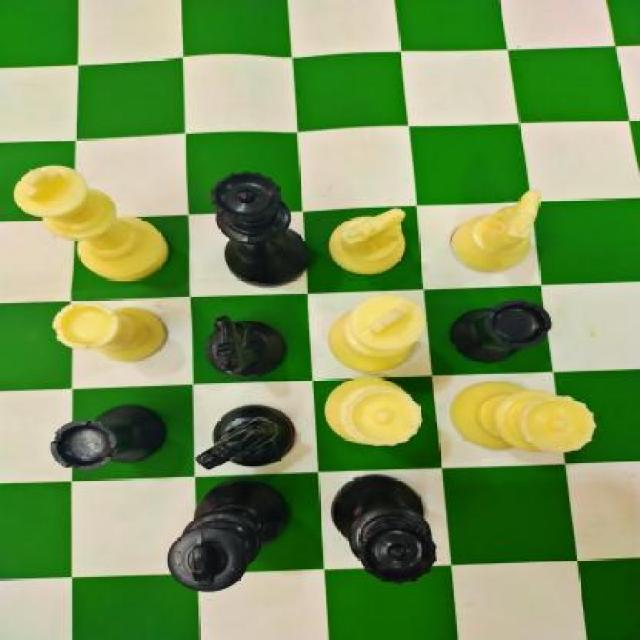black-king: (167, 477, 293, 592)
black-knight: (192, 404, 302, 470), (207, 313, 288, 379)
black-queen: (330, 473, 438, 585), (212, 170, 313, 285)
black-rook: (48, 402, 169, 470), (446, 299, 553, 365)
white-king: (12, 163, 170, 282), (328, 292, 426, 375)
white-knight: (449, 190, 544, 274), (327, 209, 406, 276)
white-queen: (450, 379, 596, 455), (326, 375, 423, 447)
white-rook: (51, 300, 170, 361)
